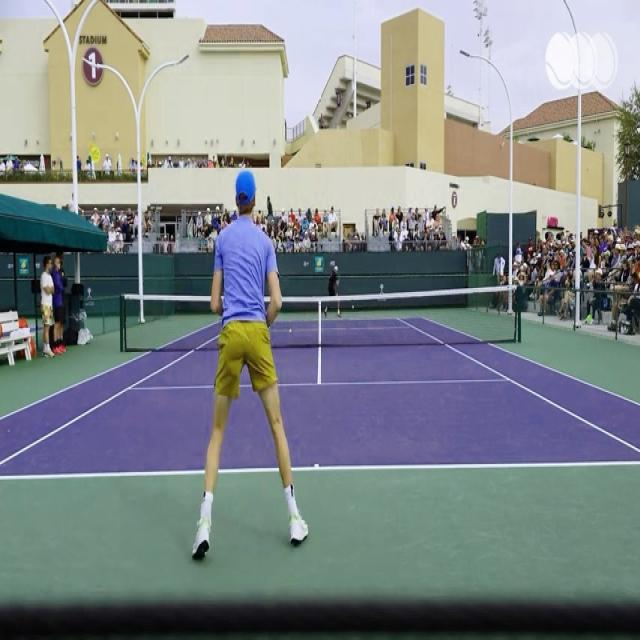ready-position: (201, 165, 311, 553)
